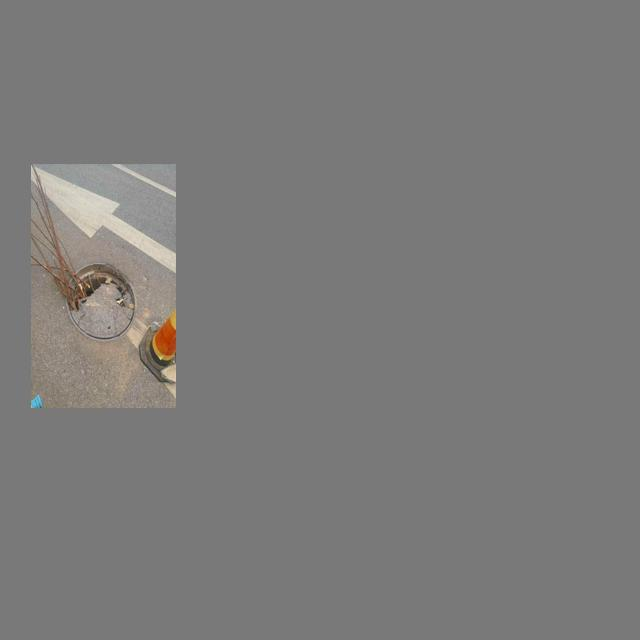broke: (61, 255, 140, 342)
